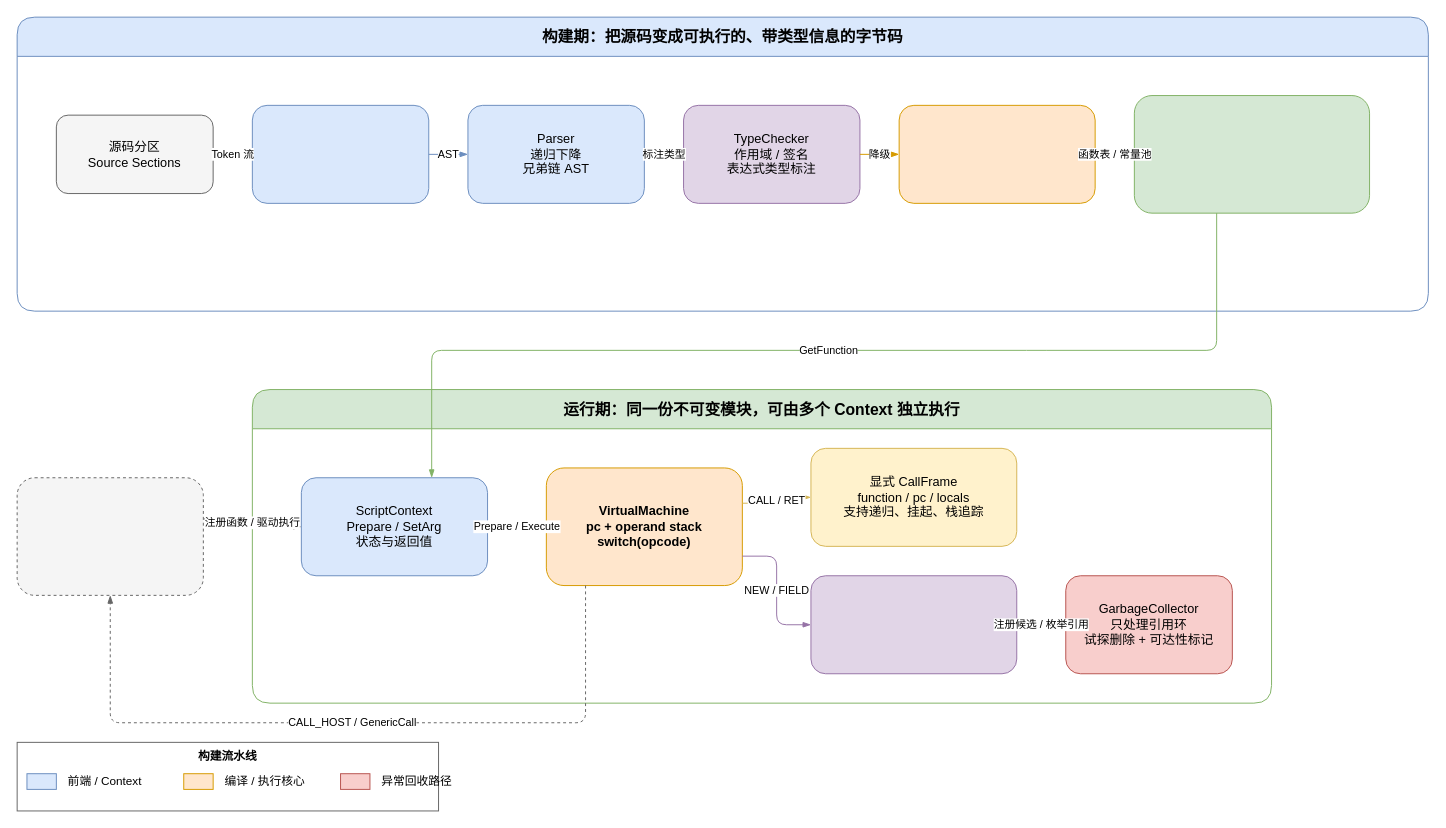
This 1446x828 diagram has some shape labels left out. The centre of each missing label's shape, as x and y in pixels:
"BytecodeCompiler 类型化 Opcode 跳转回填 / 常量池" goes at point 996,153.
"ScriptModule 函数 + 常量 + 元数据 链接宿主函数与对象类型" goes at point 1251,154.
"ScriptObject + ObjectHandle 字段是 Value 数组 普通路径由引用计数回收" goes at point 913,624.
"Tokenizer 字符 → Token 保留行列与分区" goes at point 340,153.
"宿主 C++ 应用 注册 API / 创建模块 驱动 Context" goes at point 109,536.
